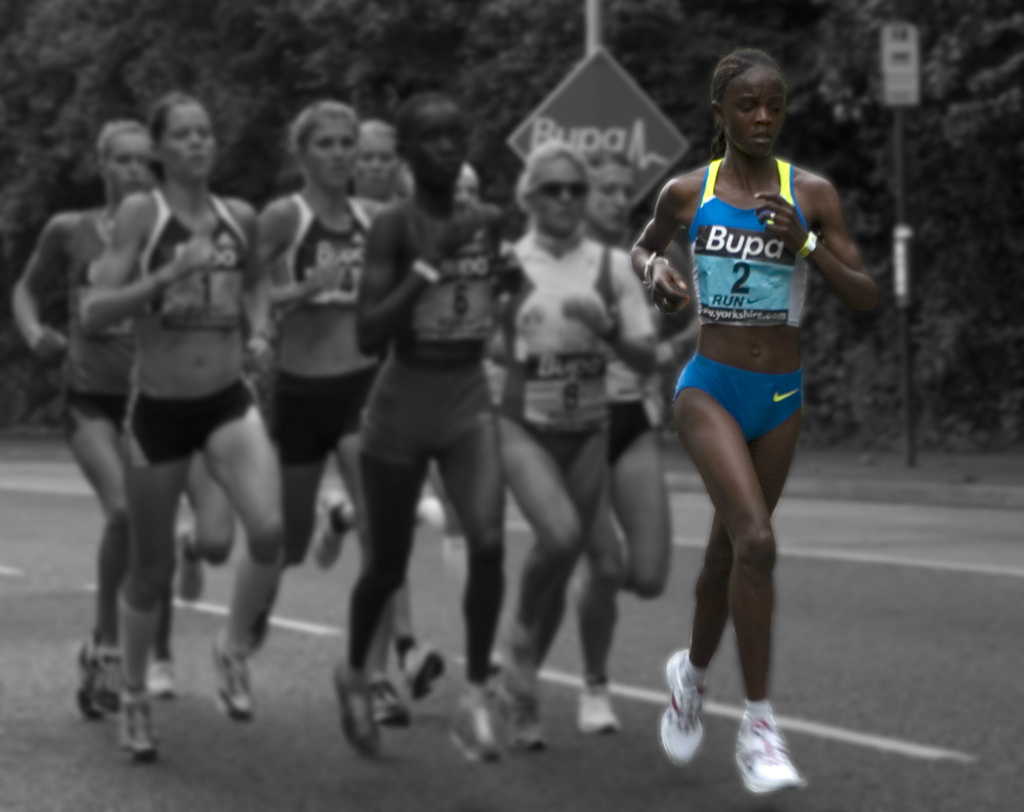Person: (12, 46, 878, 793)
